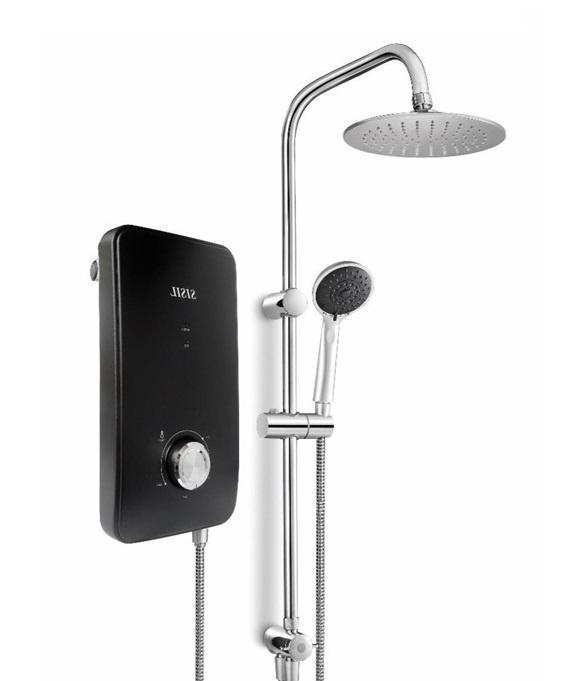Ducha: (92, 0, 513, 680)
